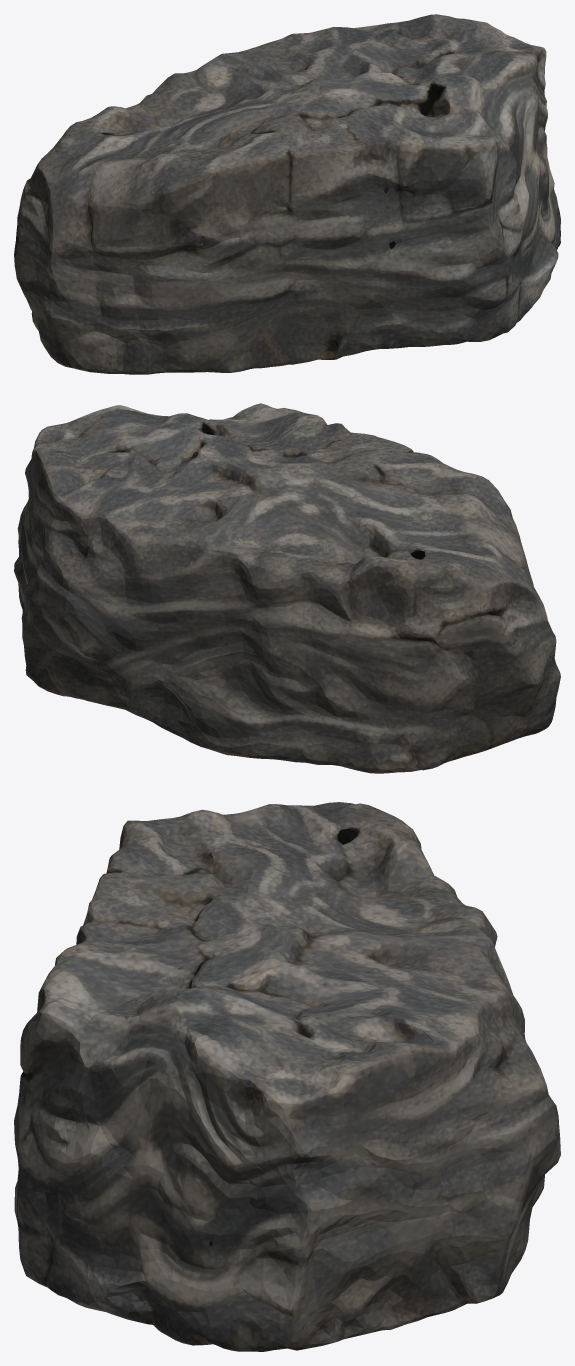
3 views of the same model, one above another, from view 1: azimuth 30°, elevation 25°; view 2: azimuth 150°, elevation 25°; view 3: azimuth 270°, elevation 25° (orthographic). The views are drawn at different scales.
Parts seen in each view (by area): view 1: world; view 2: world; view 3: world.
Part boxes in pixels (x1,y1,x2,y2): world: [14, 14, 560, 374]; world: [14, 403, 560, 773]; world: [14, 802, 560, 1351].
Bounding box in the file's own units: 3.5 × 1.34 × 2.25.
1 material, 1 textured.
